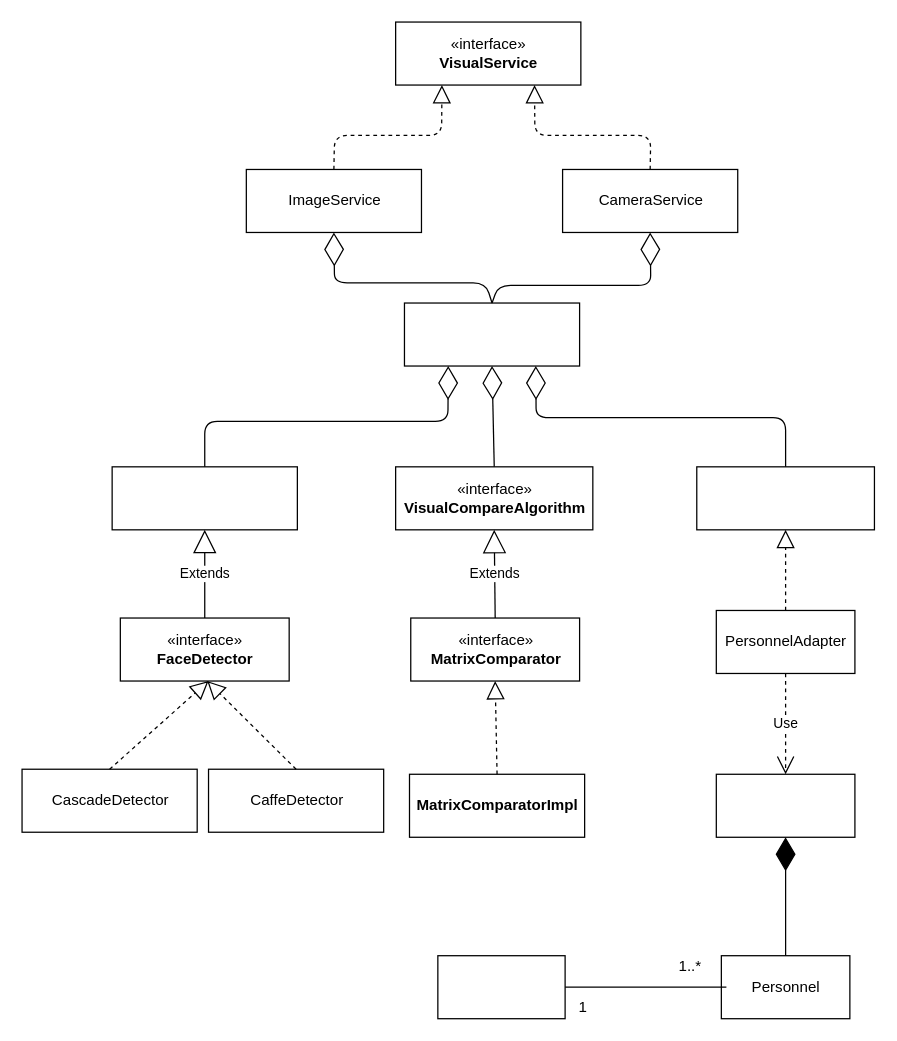
The diagram is 897 pixels wide and 1041 high, and some of its shapes have lost their labels. The shapes that lost their labels are listed below. From the top down, each one's box as (x1, y1, x2, y2) in pixels, then its label:
(403, 302, 580, 366): VisualSrviceBuilder
(111, 466, 297, 530): «interface» VisualSearchAlgorithm
(696, 466, 874, 530): «interface» VisualDataSouce
(715, 773, 855, 837): PersonnelDao
(437, 954, 565, 1019): Profile
